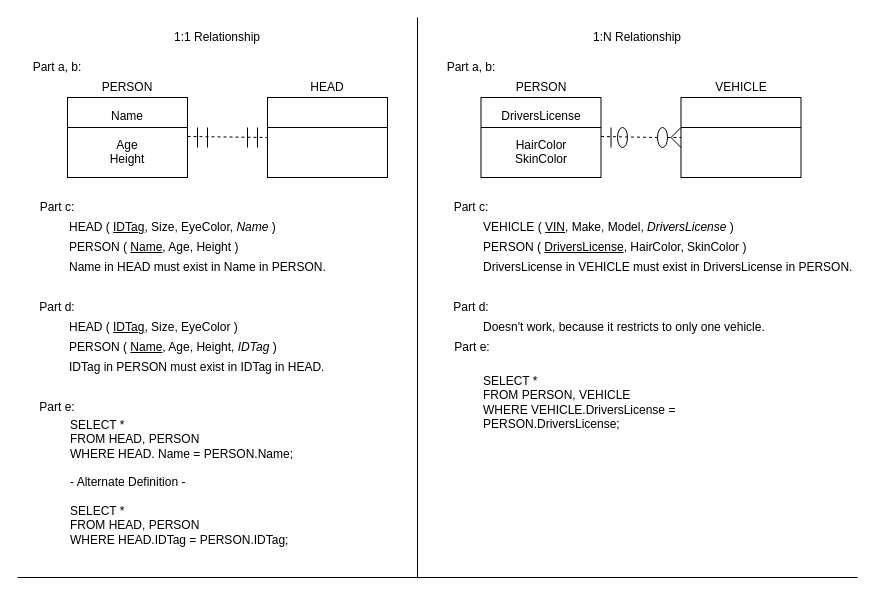
Some shapes in this 876 by 596 pixel diagram are drawn without their labels. The shapes that lost their labels are listed below. From the top down, each one's box as (x1, y1, x2, y2) in pixels, then its label:
(266, 96, 388, 178): IDTag Size EyeColor
(680, 96, 801, 178): VIN Make Model
